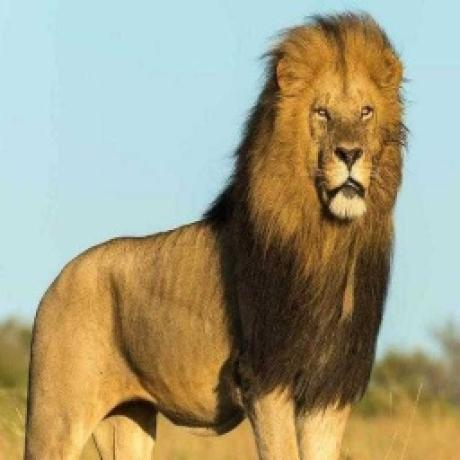Lion: (18, 5, 408, 460)
